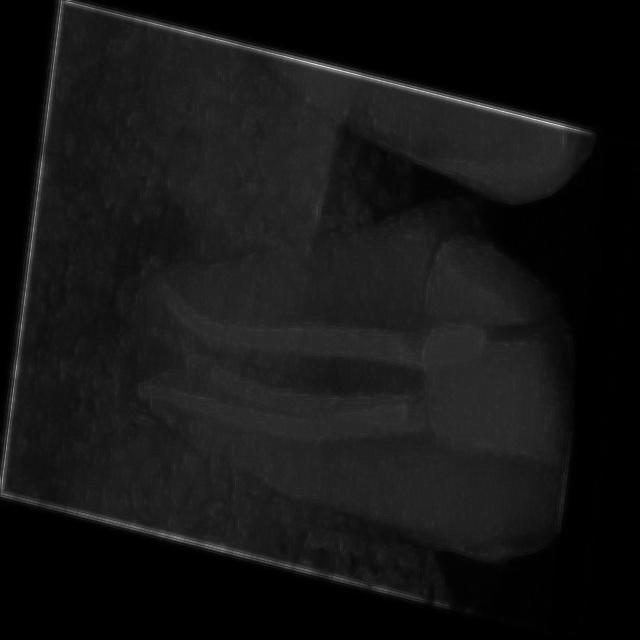Class 1- complete endodontic treatment: (80, 76, 604, 622)
